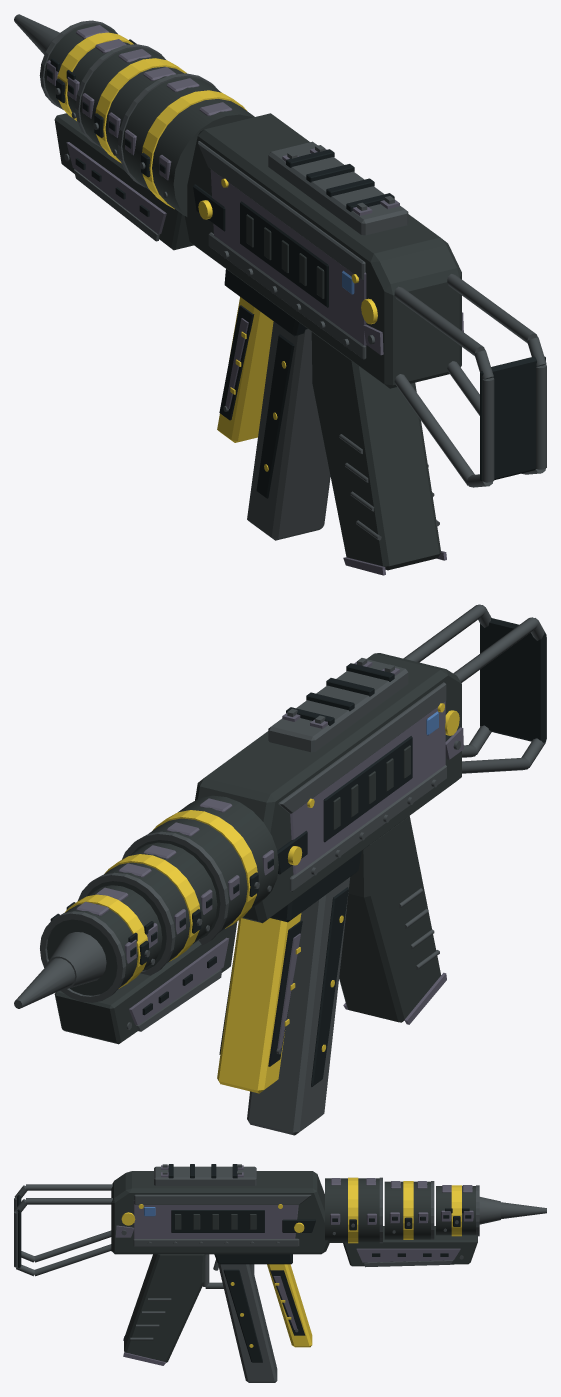
Rendered from smg_2.glb.
3 views of the same model, one above another, from view 1: azimuth 30°, elevation 25°; view 2: azimuth 150°, elevation 25°; view 3: azimuth 270°, elevation 25° (orthographic). The views are drawn at different scales.
Parts seen in each view (by area): view 1: Weapon_smg_v1; view 2: Weapon_smg_v1; view 3: Weapon_smg_v1.
Boxes of the visible parts, <box> form: Weapon_smg_v1: <box>14,14,546,575</box>; Weapon_smg_v1: <box>14,604,546,1135</box>; Weapon_smg_v1: <box>14,1164,546,1382</box>.
Size of the model in its own units: 0.084 by 0.2695 by 0.624.
